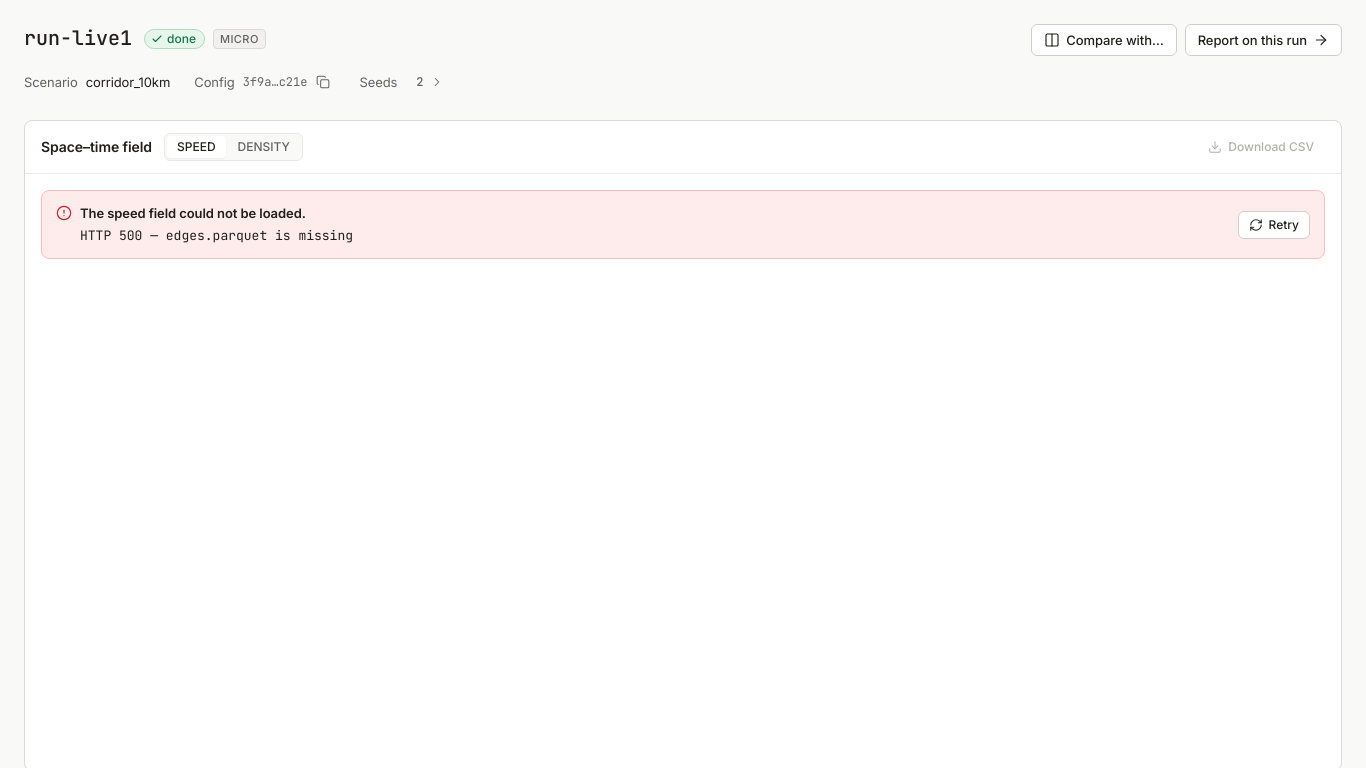
Test: RunDetailView failure states › turns a failed heatmap fetch into a callout with Retry
Expected: the text "The speed field could not be loaded." is shown, [80,205,306,221]
Expected: the text "HTTP 500 — edges.parquet is missing" is shown, [80,227,353,244]
Click the button "Retry": (1274, 224) [1238,210,1310,238]
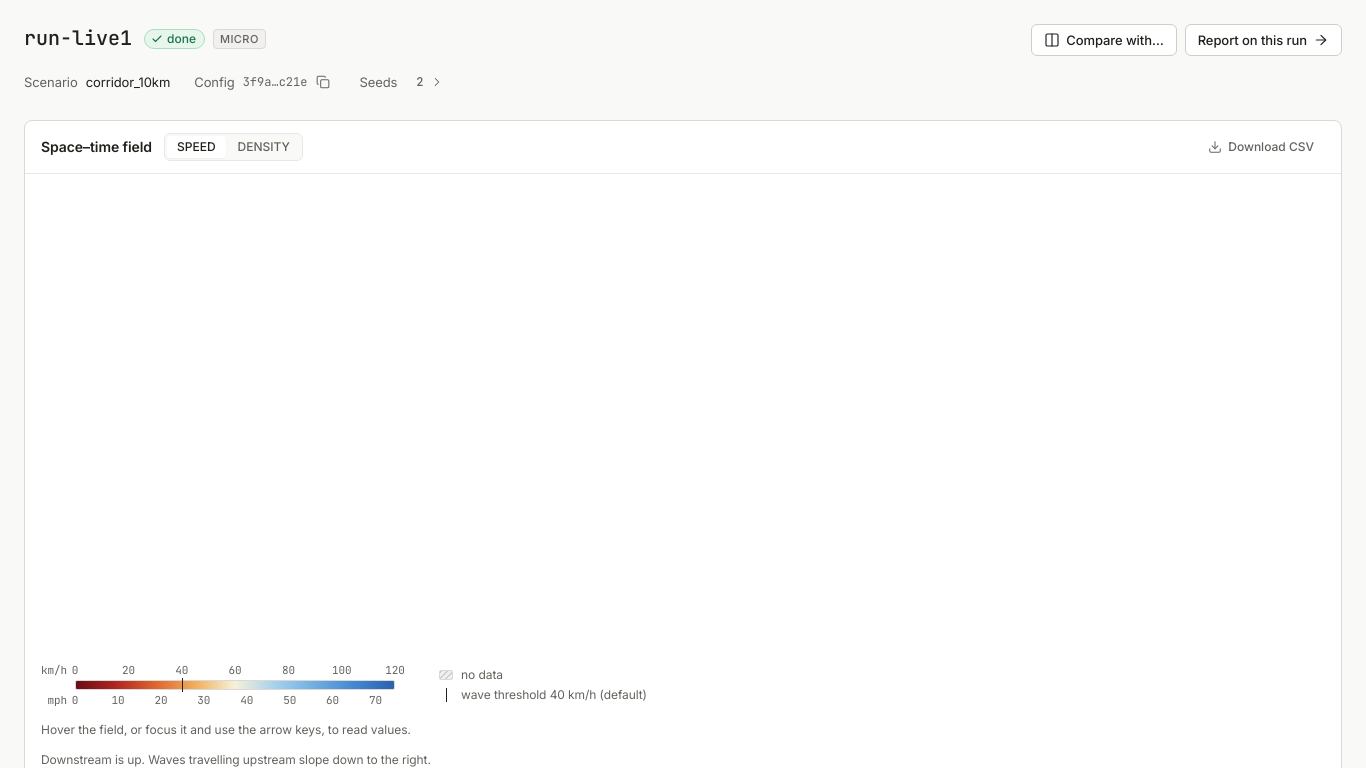
Expected: the text "The speed field could not be loaded." is gone
Expected: the button "Download CSV" is enabled, [1197,133,1325,161]
